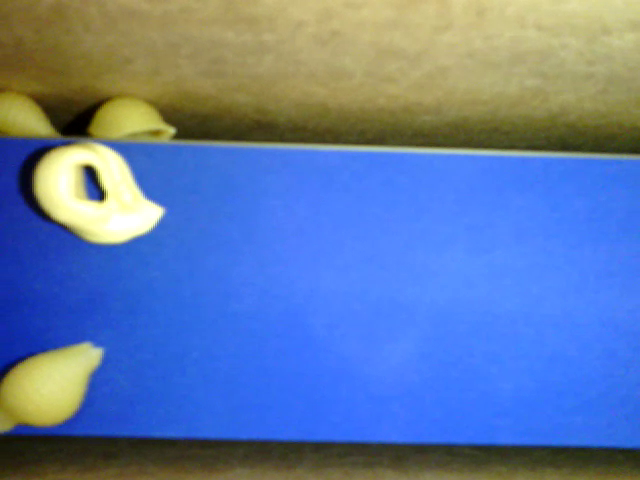shell: (1, 341, 98, 438), (92, 91, 177, 143), (1, 93, 67, 140)
